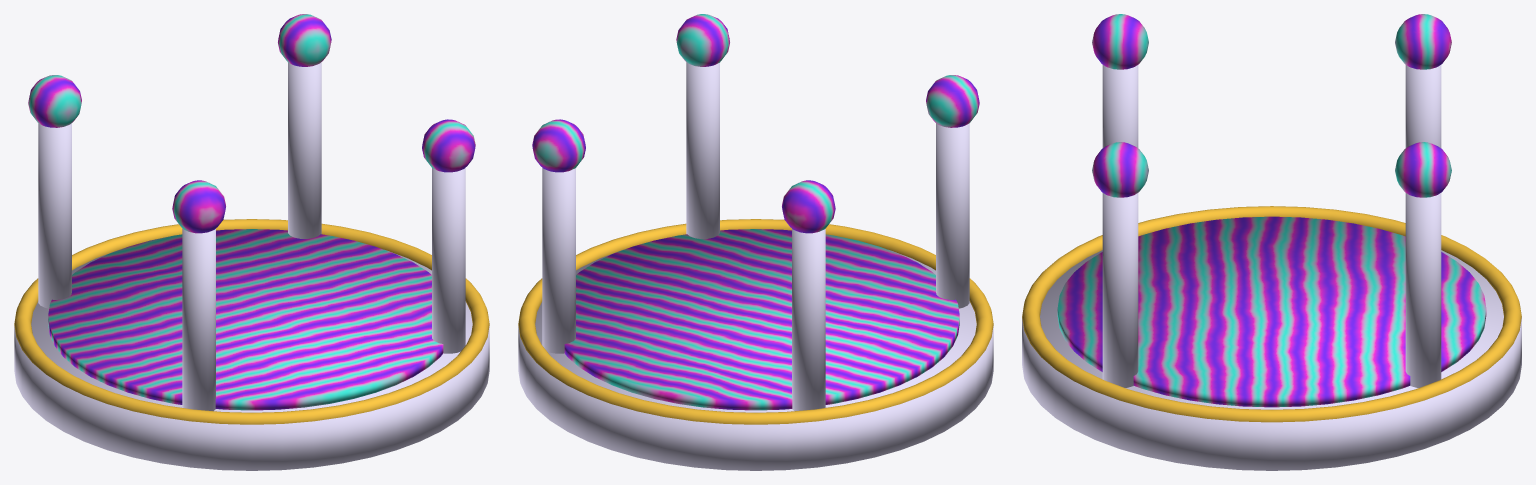
The model's file is SM_RebirthAltar.fbx.
The picture shows the model from 3 angles, left to right: view 1: azimuth 30°, elevation 25°; view 2: azimuth 150°, elevation 25°; view 3: azimuth 270°, elevation 25°; orthographic projection. The views are drawn at different scales.
Visible parts, largest first — view 1: SM_RebirthAltar; view 2: SM_RebirthAltar; view 3: SM_RebirthAltar.
Boxes of the visible parts, bbox=[...] form: SM_RebirthAltar: bbox=[14, 14, 489, 470]; SM_RebirthAltar: bbox=[518, 14, 993, 470]; SM_RebirthAltar: bbox=[1022, 14, 1521, 470].
Size of what is drawn, in the model's own units: 2.8 by 1.76 by 2.8.
Materials: 1 (1 with a texture image).
